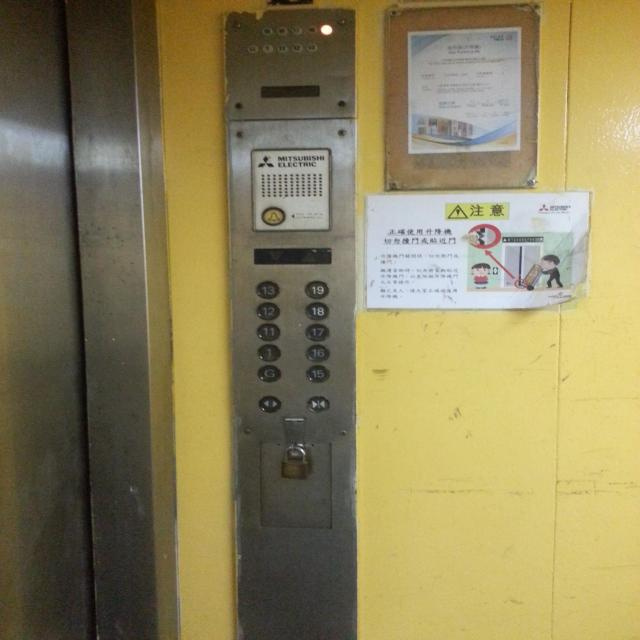1: (256, 343, 282, 362)
11: (256, 322, 280, 341), (276, 42, 288, 54)
12: (255, 301, 280, 320), (291, 42, 302, 52)
13: (256, 280, 280, 299), (304, 42, 318, 52)
15: (305, 363, 330, 382)
16: (304, 343, 330, 363)
17: (305, 323, 329, 342)
18: (304, 300, 330, 321)
19: (304, 279, 329, 300)
G: (257, 364, 281, 383)
alarm: (260, 206, 286, 226)
blur: (275, 25, 288, 36), (246, 43, 258, 54), (305, 24, 317, 35), (290, 25, 303, 35), (260, 26, 272, 36), (261, 43, 273, 53)
close: (306, 394, 329, 413)
empty: (320, 23, 334, 36)
led: (252, 247, 332, 265), (259, 84, 321, 98)
open: (258, 395, 281, 413)
